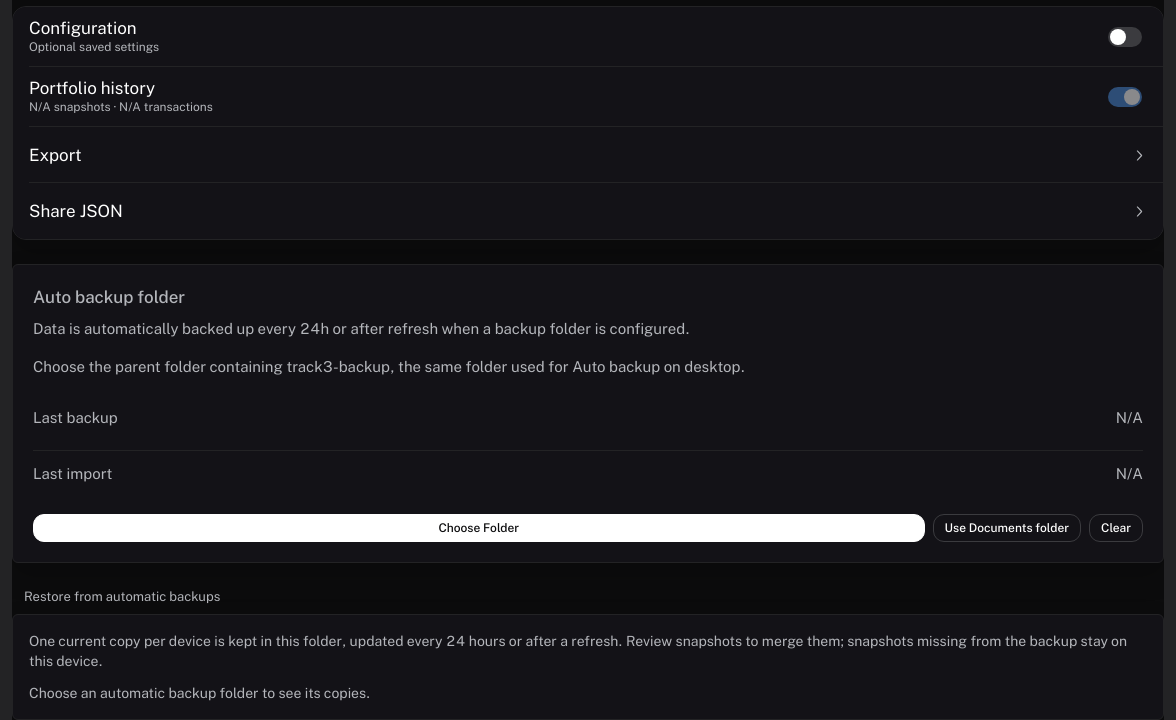
Test: saves a Documents marker when selected
(page scrolled)
Click the button "Use Documents folder". click: [1007, 528]
box: [933,514,1081,542]
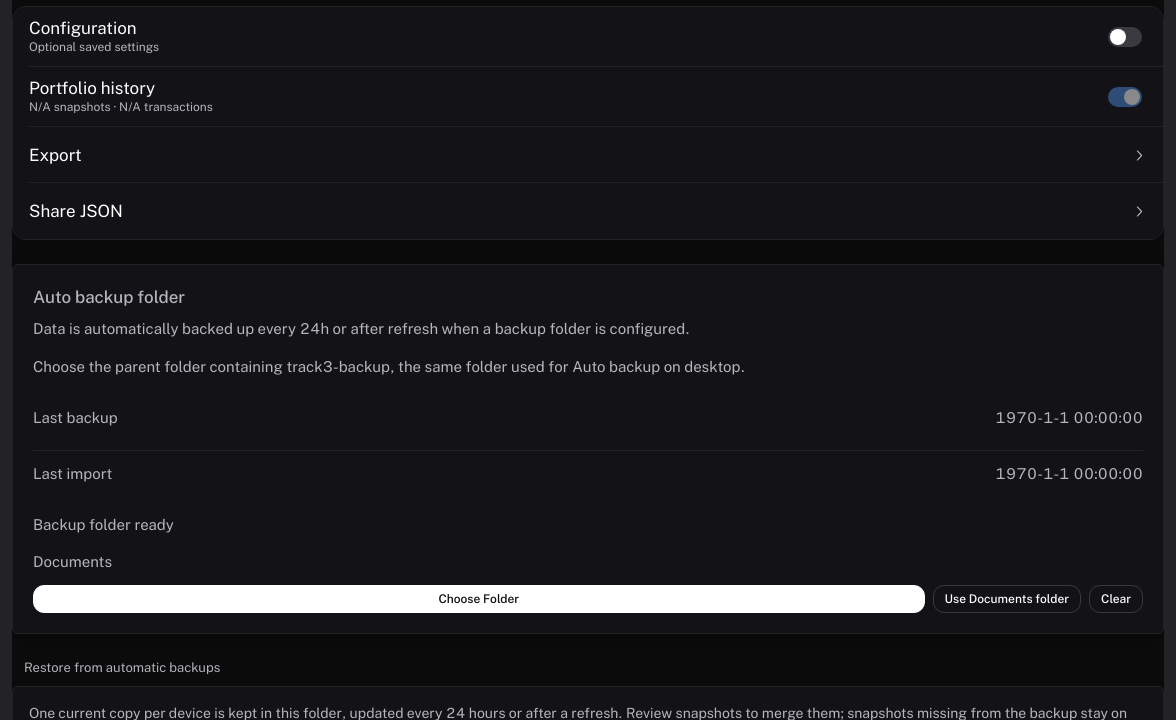
Now the text "Documents" is shown, box [33,553,112,570]
